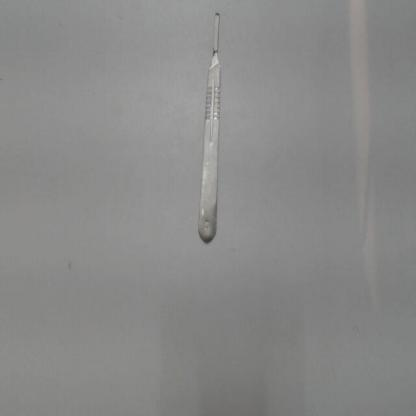No.4 BP Handle: (189, 11, 226, 258)
